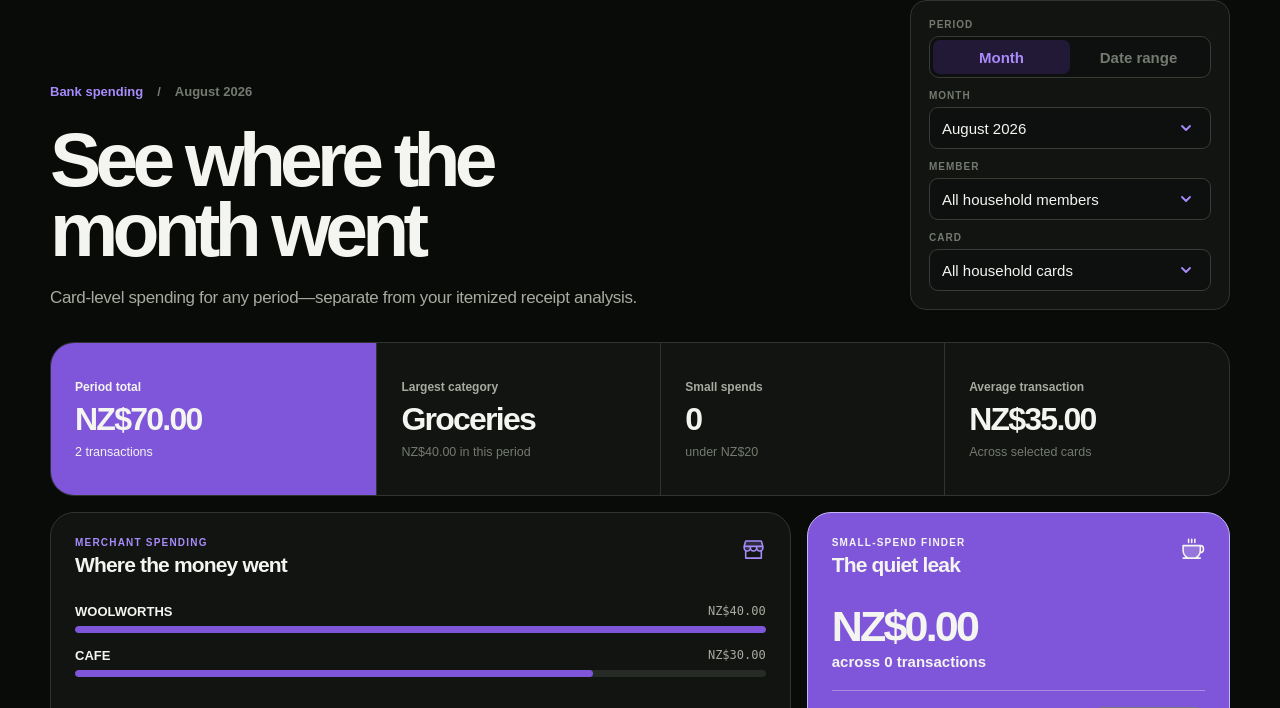
Test: BankWorkspace › filters household spending by card holder
The width and height of the screenshot is (1280, 708).
Check: the element named "bank summary" shows "NZ$70.00", box 75,400 -> 202,436
Step 1. Select "Andrea" in the dropdown named "Filter by member" → x=1070, y=199, box 929,178 -> 1211,220
(page scrolled)
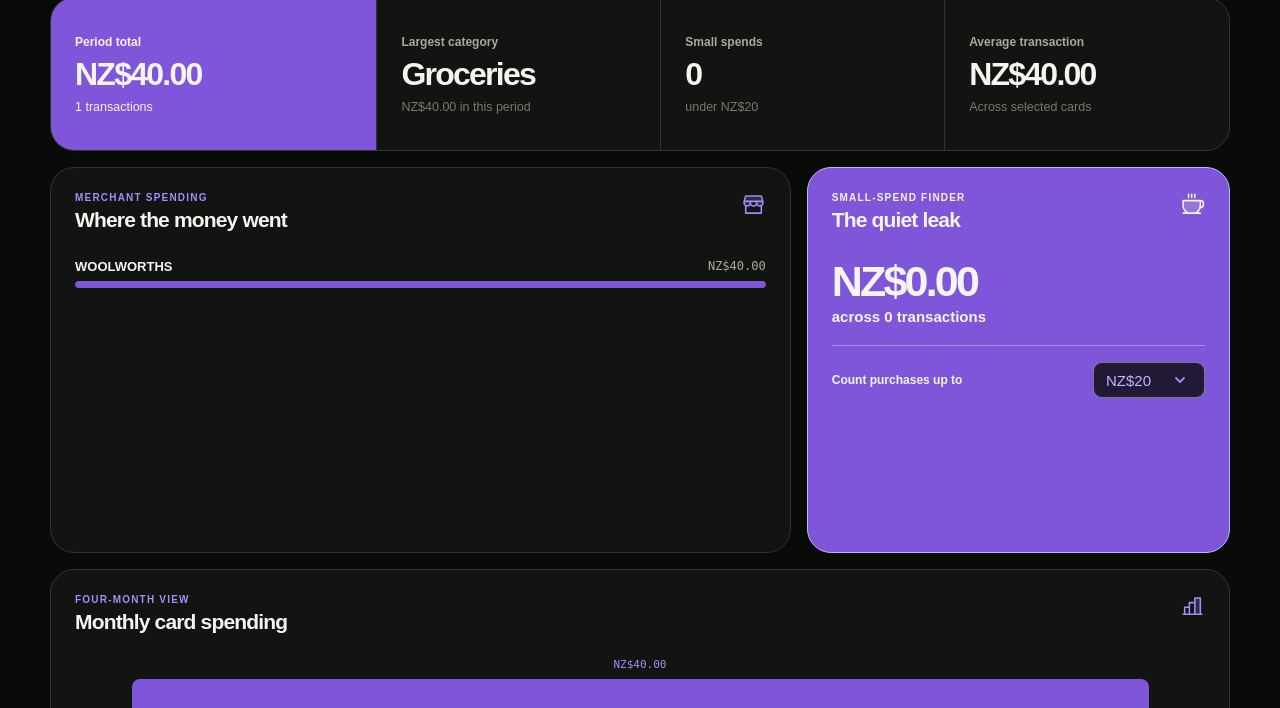
Check: the element named "bank summary" shows "NZ$40.00", box 75,56 -> 202,92
Check: the element "Merchant spending Where the money went WOOLWORTHS NZ$40.00" no longer shows "CAFE", box 50,167 -> 791,553
